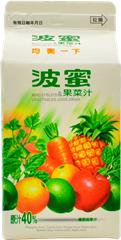vegetables juice: (6, 19, 119, 237)
